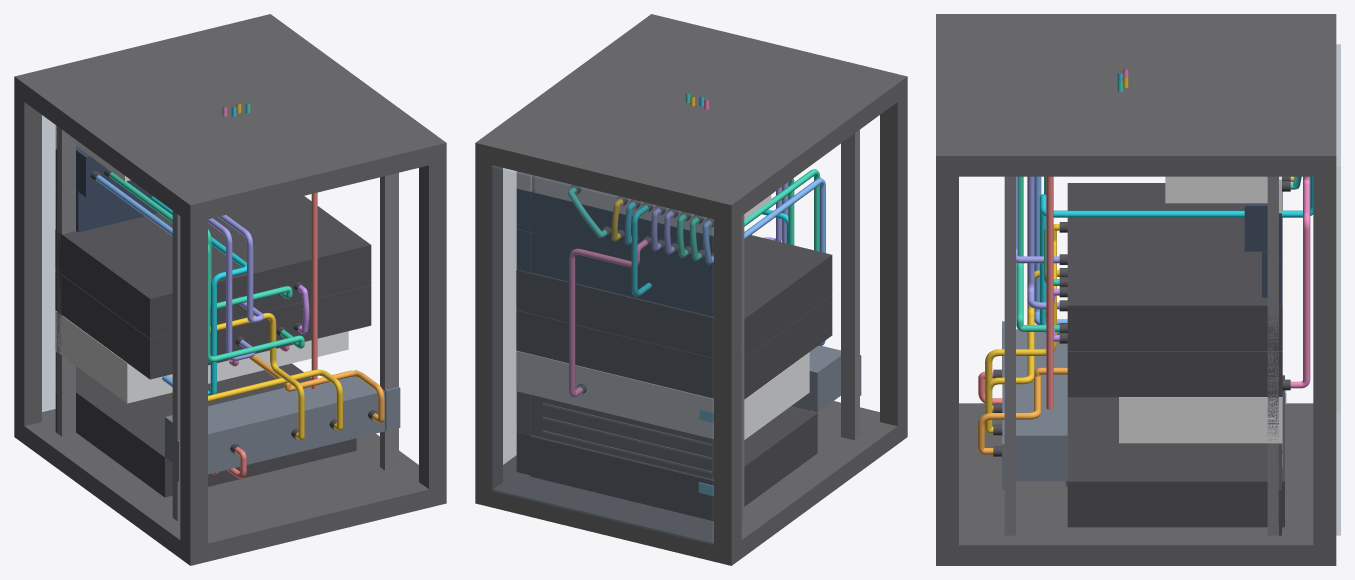
Rendered from rack-scene.glb.
3 renders of one model, left to right at view 1: azimuth 30°, elevation 25°; view 2: azimuth 150°, elevation 25°; view 3: azimuth 270°, elevation 25°, orthographic. The views are drawn at different scales.
Visible parts, largest first — view 1: RackRoofFrame, RackBaseFrame, Device_carrier-u5, Device_pdu-u2-rear, RackCornerPost_RL, Device_ups-u1, RackCornerPost_RR, RackCornerPost_FL, Device_carrier-u4, Device_carrier-u3, RackRail_RR, RackGlassFrontDoorMesh (+15 smaller); view 2: RackGlassFrontDoorMesh, RackRoofFrame, RackBaseFrame, Device_carrier-u5, Device_ups-u1, Device_carrier-u4, Device_carrier-u3, RackCornerPost_FL, RackCornerPost_FR, RackCornerPost_RL, Device_brush-u6, Device_cover-u2 (+13 smaller); view 3: RackRoofFrame, Device_carrier-u5, RackBaseFrame, Device_ups-u1, RackCornerPost_FR, Device_carrier-u4, RackCornerPost_RR, Device_carrier-u3, Device_pdu-u2-rear, RackRail_RR, RackRail_FR, Device_sw-u8 (+11 smaller).
Boxes of the visible parts, box(x1,y1,x2,y2) form: RackRoofFrame: box(14, 14, 446, 223); RackBaseFrame: box(14, 409, 446, 565); Device_carrier-u5: box(55, 196, 371, 338); Device_pdu-u2-rear: box(165, 370, 385, 474); RackCornerPost_RL: box(180, 193, 207, 565); Device_ups-u1: box(76, 363, 356, 497); RackCornerPost_RR: box(419, 135, 446, 503); RackCornerPost_FL: box(14, 74, 41, 443); Device_carrier-u4: box(55, 270, 371, 379); Device_carrier-u3: box(55, 310, 348, 403); RackRail_RR: box(380, 172, 398, 470); RackGlassFrontDoorMesh: box(42, 115, 55, 411); RackGlassFrontDoorMesh: box(491, 165, 713, 544); RackRoofFrame: box(475, 14, 907, 222); RackBaseFrame: box(475, 401, 907, 565); Device_carrier-u5: box(516, 235, 832, 358); Device_ups-u1: box(530, 406, 817, 521); Device_carrier-u4: box(516, 295, 832, 399); Device_carrier-u3: box(516, 351, 809, 439); RackCornerPost_FL: box(714, 193, 741, 565); RackCornerPost_FR: box(475, 135, 502, 504); RackCornerPost_RL: box(880, 76, 907, 443); Device_brush-u6: box(531, 232, 713, 316); Device_cover-u2: box(531, 395, 713, 479); RackRoofFrame: box(936, 14, 1336, 176); Device_carrier-u5: box(1067, 183, 1282, 351); RackBaseFrame: box(936, 403, 1336, 565); Device_ups-u1: box(1067, 375, 1284, 527); RackCornerPost_FR: box(1313, 146, 1336, 565); Device_carrier-u4: box(1067, 351, 1282, 397); RackCornerPost_RR: box(936, 146, 958, 565); Device_carrier-u3: box(1119, 397, 1282, 443); Device_pdu-u2-rear: box(1002, 329, 1067, 481); RackRail_RR: box(1004, 176, 1015, 535); RackRail_FR: box(1267, 176, 1278, 535); Device_sw-u8: box(1165, 176, 1267, 203).
Size of the model in its own units: 0.294 by 0.4056 by 0.354.
